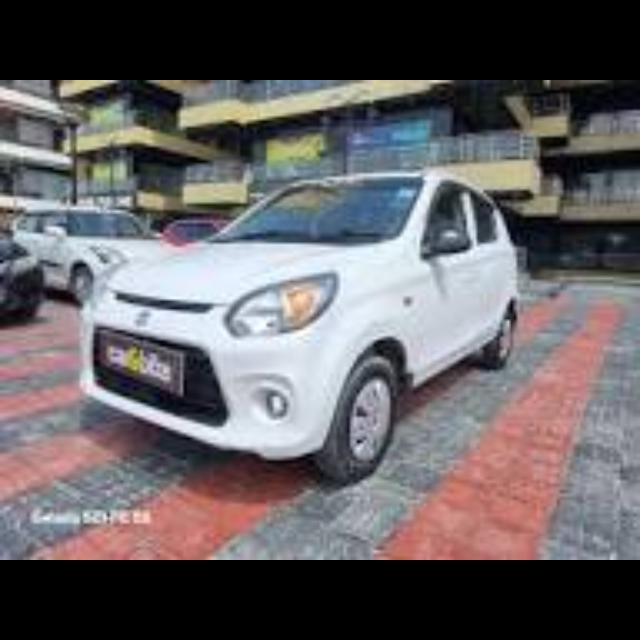number-plate: (94, 330, 181, 390)
vehicles: (17, 164, 527, 491), (10, 204, 167, 301), (160, 217, 227, 244)
